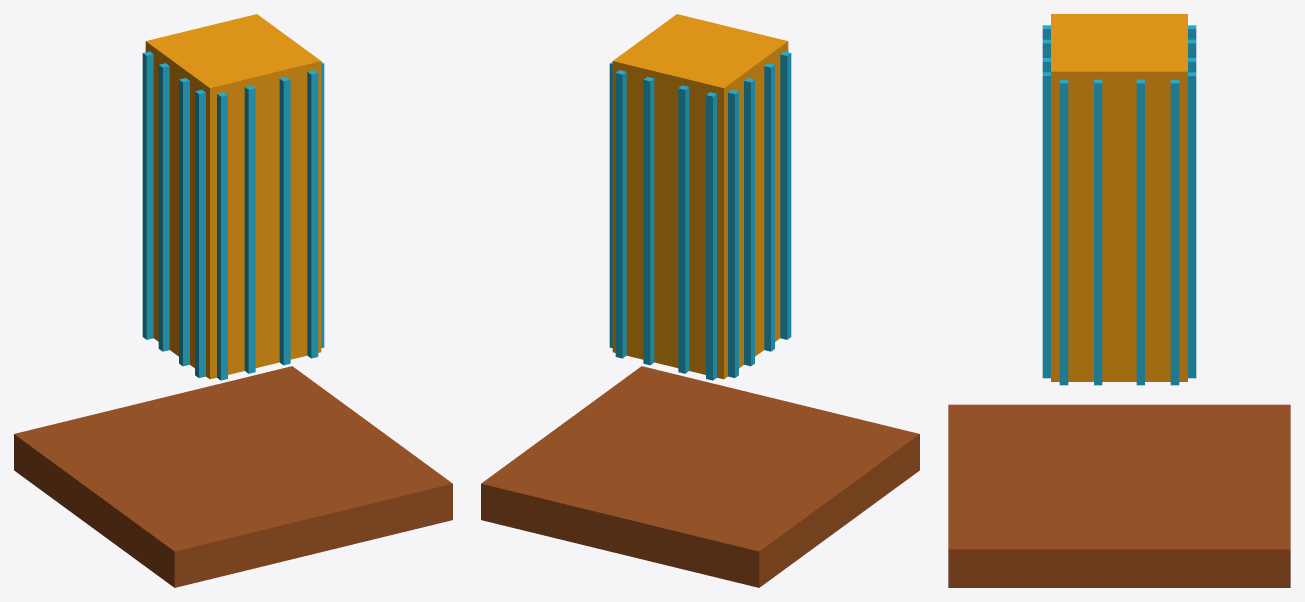
The model's file is tower3_sides.obj.
3 renders of one model, left to right at view 1: azimuth 30°, elevation 25°; view 2: azimuth 150°, elevation 25°; view 3: azimuth 270°, elevation 25°, orthographic. The views are drawn at different scales.
Size of the model in its own units: 4 by 6.1 by 4.
1 material, 1 textured.
